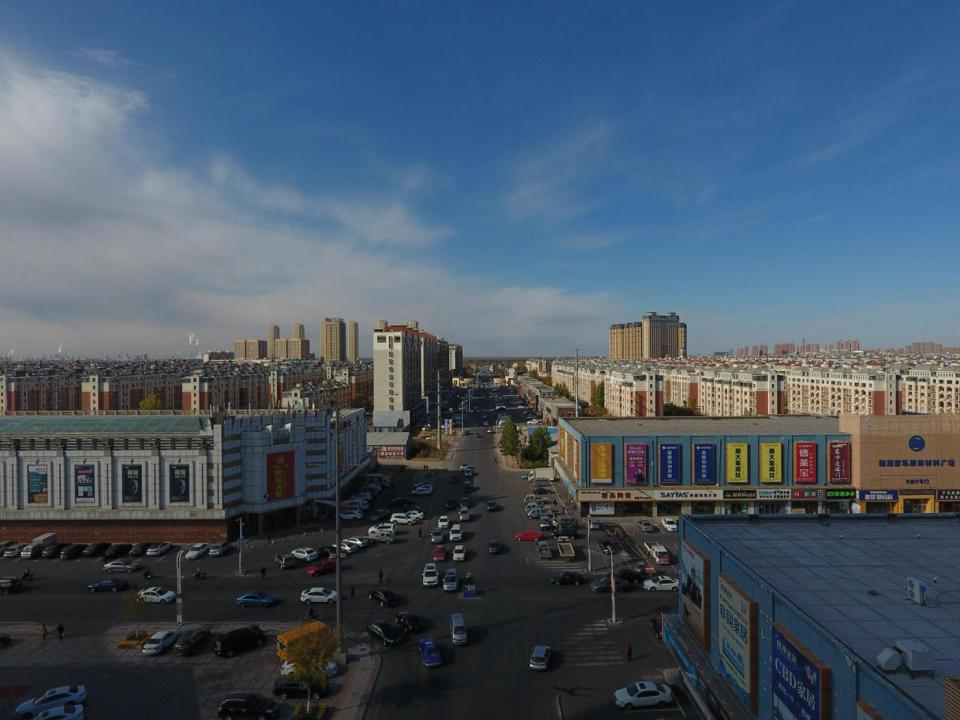bus: (276, 620, 335, 664)
car: (14, 684, 85, 718), (217, 693, 279, 720), (614, 682, 672, 708), (274, 676, 329, 699), (280, 656, 336, 678), (20, 704, 84, 720), (176, 628, 210, 658), (366, 620, 401, 646), (235, 591, 277, 608), (418, 638, 442, 667), (642, 575, 682, 592), (87, 576, 128, 592), (136, 587, 176, 603), (395, 610, 422, 633), (300, 588, 340, 603), (307, 558, 340, 576), (530, 645, 552, 671), (605, 568, 642, 583), (590, 578, 629, 592), (368, 588, 398, 606), (650, 617, 673, 640), (103, 559, 140, 572), (550, 571, 584, 585), (42, 543, 73, 558), (104, 542, 132, 558), (82, 542, 111, 557), (60, 544, 89, 559), (558, 536, 575, 561), (185, 542, 210, 559), (292, 546, 318, 562), (0, 576, 22, 594), (444, 568, 460, 592), (129, 541, 156, 555), (274, 552, 295, 570), (4, 544, 33, 557), (422, 563, 438, 586), (368, 522, 396, 535), (146, 541, 172, 555), (390, 513, 416, 526), (317, 545, 343, 558), (332, 541, 357, 554), (515, 530, 542, 542), (550, 528, 576, 540), (343, 535, 367, 548), (209, 542, 231, 556), (536, 541, 552, 560), (597, 538, 615, 554), (0, 541, 19, 556), (368, 509, 390, 521), (676, 519, 692, 535), (339, 510, 362, 521), (401, 510, 424, 521), (430, 526, 444, 544), (662, 518, 678, 533), (390, 497, 414, 507), (348, 500, 369, 511), (637, 520, 654, 533), (433, 545, 446, 562), (403, 505, 425, 515), (453, 545, 466, 561), (450, 525, 462, 541), (586, 519, 601, 531), (350, 493, 372, 501), (488, 539, 500, 553), (411, 488, 432, 496), (459, 507, 470, 522), (438, 516, 449, 528), (365, 484, 381, 492), (360, 490, 376, 498), (414, 482, 435, 488), (416, 485, 434, 492), (486, 500, 497, 511), (459, 497, 470, 508), (532, 488, 552, 494), (445, 497, 455, 509), (521, 472, 540, 478), (464, 481, 472, 493), (459, 463, 470, 471), (449, 474, 458, 483), (426, 435, 438, 441), (465, 468, 472, 476), (441, 423, 452, 428), (421, 417, 432, 422), (498, 424, 507, 430), (453, 415, 463, 420), (527, 420, 539, 424), (430, 407, 439, 412), (454, 412, 463, 417), (457, 412, 466, 417), (423, 416, 434, 420), (457, 408, 468, 412), (459, 401, 470, 405), (497, 412, 508, 416), (496, 406, 507, 410), (494, 400, 505, 404), (494, 398, 505, 402), (452, 423, 462, 427), (420, 420, 430, 424), (459, 403, 469, 407), (458, 402, 468, 406), (496, 402, 506, 406), (494, 399, 504, 403), (428, 410, 437, 414), (500, 420, 509, 424), (517, 405, 525, 409), (487, 428, 492, 434), (464, 430, 470, 435), (496, 410, 506, 413), (532, 419, 542, 422), (528, 415, 535, 419), (527, 412, 534, 416), (515, 399, 522, 403), (524, 411, 531, 414), (516, 401, 523, 404), (483, 414, 487, 419), (509, 401, 514, 405), (473, 408, 477, 412), (479, 409, 483, 413), (484, 421, 488, 425), (473, 422, 477, 426), (475, 434, 480, 437), (449, 408, 453, 411), (483, 394, 486, 397), (474, 406, 477, 409), (475, 401, 477, 405), (457, 395, 459, 398), (486, 398, 488, 400), (486, 396, 488, 398)
truck: (21, 533, 56, 557), (644, 541, 670, 564), (552, 512, 576, 532), (362, 530, 396, 544), (363, 473, 390, 488), (529, 468, 554, 482), (527, 507, 552, 520), (525, 502, 551, 514), (524, 494, 548, 504), (450, 416, 463, 422), (497, 416, 510, 422), (416, 422, 426, 428)
van: (213, 627, 266, 659), (450, 614, 467, 645), (341, 504, 360, 514), (360, 486, 378, 495), (534, 477, 550, 487), (540, 516, 550, 530), (453, 420, 463, 425)
